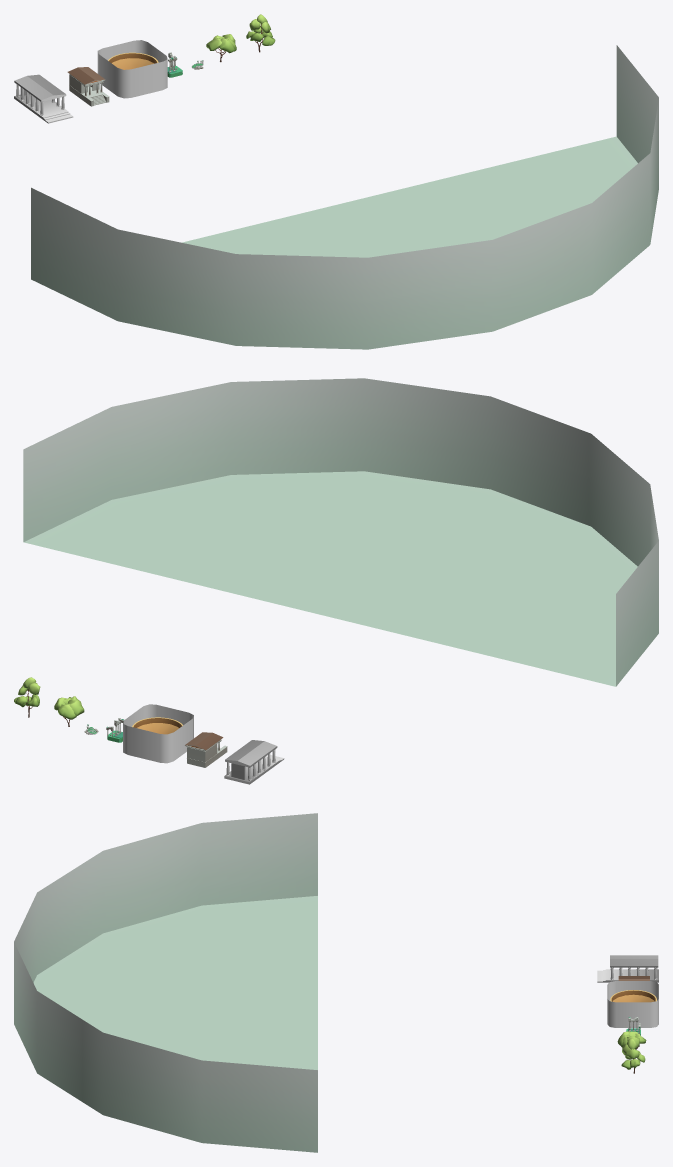
File: assets_t2_a2.fbx
3 views of the same model, one above another, from view 1: azimuth 30°, elevation 25°; view 2: azimuth 150°, elevation 25°; view 3: azimuth 270°, elevation 25° (orthographic). The views are drawn at different scales.
Parts seen in each view (by area): view 1: ground_t2_era2, godray_t2_era2, assets_t2_era2_1, assets_t2_era2_2, assets_t2_era2_3, assets_t2_era2_7; view 2: ground_t2_era2, godray_t2_era2, assets_t2_era2_1, assets_t2_era2_2, assets_t2_era2_3; view 3: ground_t2_era2, godray_t2_era2, assets_t2_era2_1, assets_t2_era2_3.
Part boxes in pixels (x1,y1,x2,y2): ground_t2_era2: (31, 45, 658, 349); godray_t2_era2: (97, 40, 167, 98); assets_t2_era2_1: (14, 74, 73, 123); assets_t2_era2_2: (67, 67, 109, 106); assets_t2_era2_3: (108, 52, 158, 69); assets_t2_era2_7: (246, 14, 275, 52); ground_t2_era2: (23, 378, 658, 686); godray_t2_era2: (123, 704, 193, 763); assets_t2_era2_1: (224, 740, 284, 784); assets_t2_era2_2: (185, 732, 227, 767); assets_t2_era2_3: (132, 717, 182, 734); ground_t2_era2: (14, 813, 317, 1152); godray_t2_era2: (607, 981, 658, 1027); assets_t2_era2_1: (597, 955, 658, 982); assets_t2_era2_3: (610, 990, 656, 1002).
Bounding box in the file's own units: 162 × 24.24 × 171.
